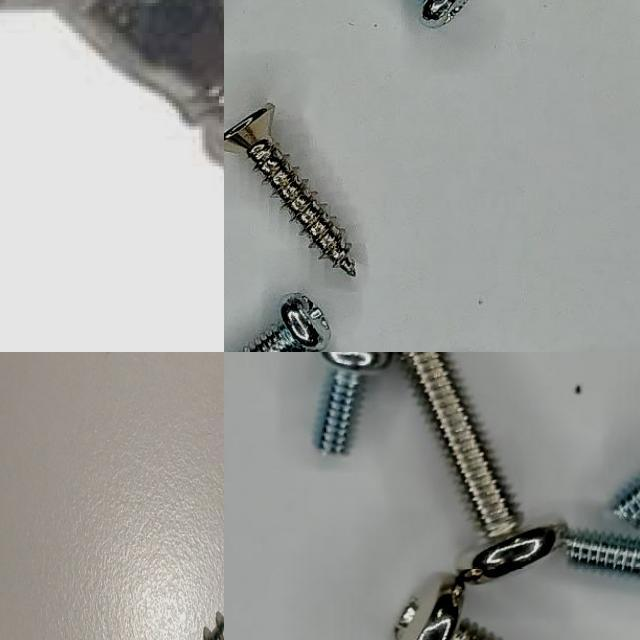Screw: (0, 0, 224, 176), (396, 352, 559, 581), (224, 104, 355, 277), (317, 352, 391, 454), (394, 577, 500, 640), (239, 294, 329, 352)
